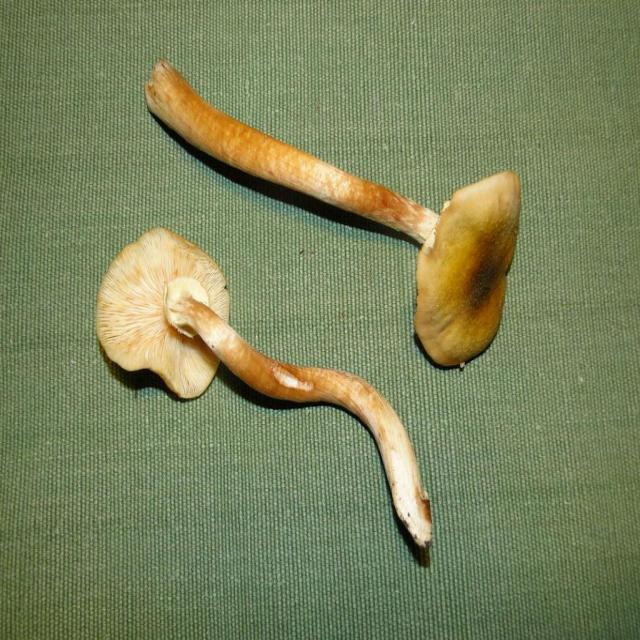Armillaria mellea: (137, 55, 523, 366), (99, 230, 434, 556)
